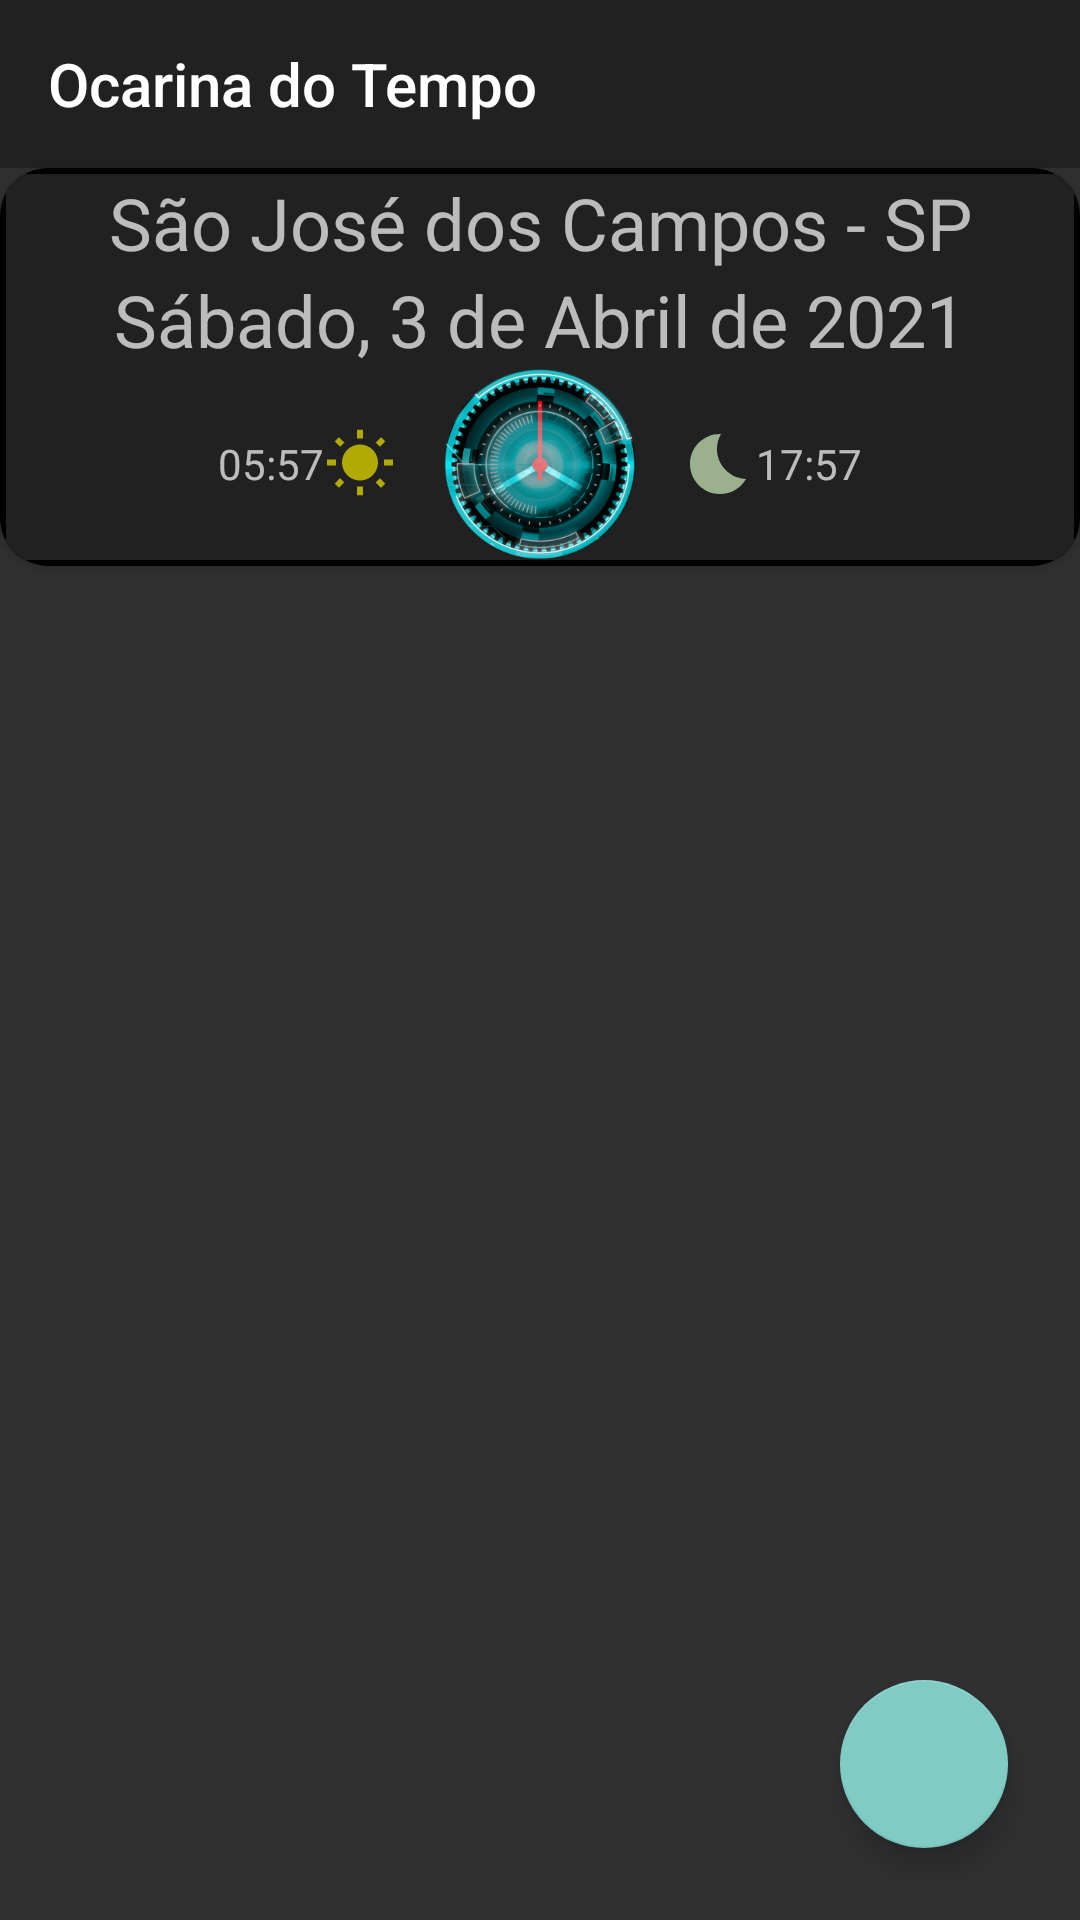

Icons on this 1080w x 1920h Android screen, each with its box as (x1, y1, x2, y2):
lua: (690, 434, 746, 494)
sol: (327, 429, 393, 496)
